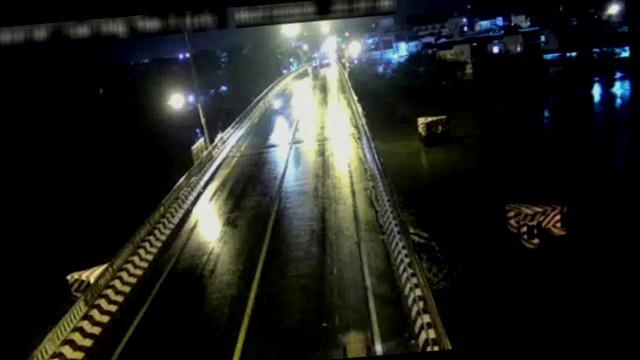Bike: (270, 92, 284, 112)
